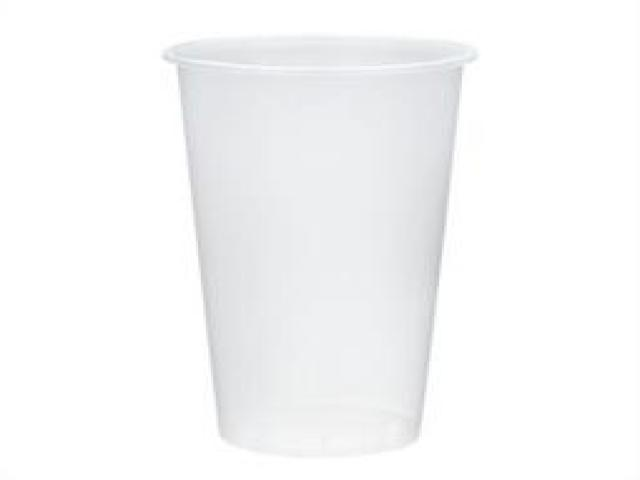cup: (164, 39, 476, 455)
